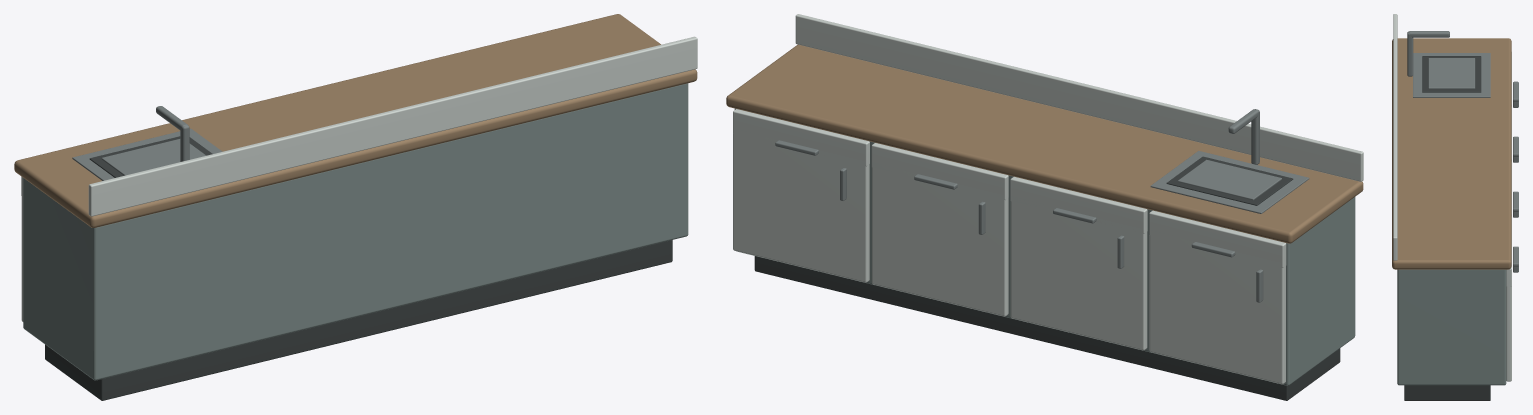
Rendered from KitchenRun.fbx.
3 views of the same model, side by side, from view 1: azimuth 30°, elevation 25°; view 2: azimuth 150°, elevation 25°; view 3: azimuth 270°, elevation 25° (orthographic). The views are drawn at different scales.
Parts seen in each view (by area): view 1: KitchenRun_Paint, KitchenRun_Timber, KitchenRun_Ceramic, KitchenRun_Ink, KitchenRun_Steel; view 2: KitchenRun_Ceramic, KitchenRun_Timber, KitchenRun_Paint, KitchenRun_Ink, KitchenRun_Steel; view 3: KitchenRun_Timber, KitchenRun_Paint, KitchenRun_Steel, KitchenRun_Ink, KitchenRun_Ceramic.
Boxes of the visible parts, box(x1,y1,x2,y2) form: KitchenRun_Paint: box(23, 83, 688, 380); KitchenRun_Timber: box(14, 14, 697, 227); KitchenRun_Ceramic: box(21, 36, 697, 321); KitchenRun_Ink: box(45, 136, 672, 400); KitchenRun_Steel: box(72, 106, 222, 180); KitchenRun_Ceramic: box(733, 14, 1363, 384); KitchenRun_Timber: box(726, 44, 1363, 243); KitchenRun_Paint: box(734, 108, 1355, 385); KitchenRun_Ink: box(754, 156, 1340, 400); KitchenRun_Steel: box(775, 109, 1309, 302); KitchenRun_Timber: box(1392, 38, 1511, 269); KitchenRun_Paint: box(1397, 269, 1506, 385); KitchenRun_Steel: box(1407, 31, 1518, 272); KitchenRun_Ink: box(1404, 56, 1490, 400); KitchenRun_Ceramic: box(1393, 14, 1511, 381).
Size of the model in its own units: 306 by 122 by 73.25.
